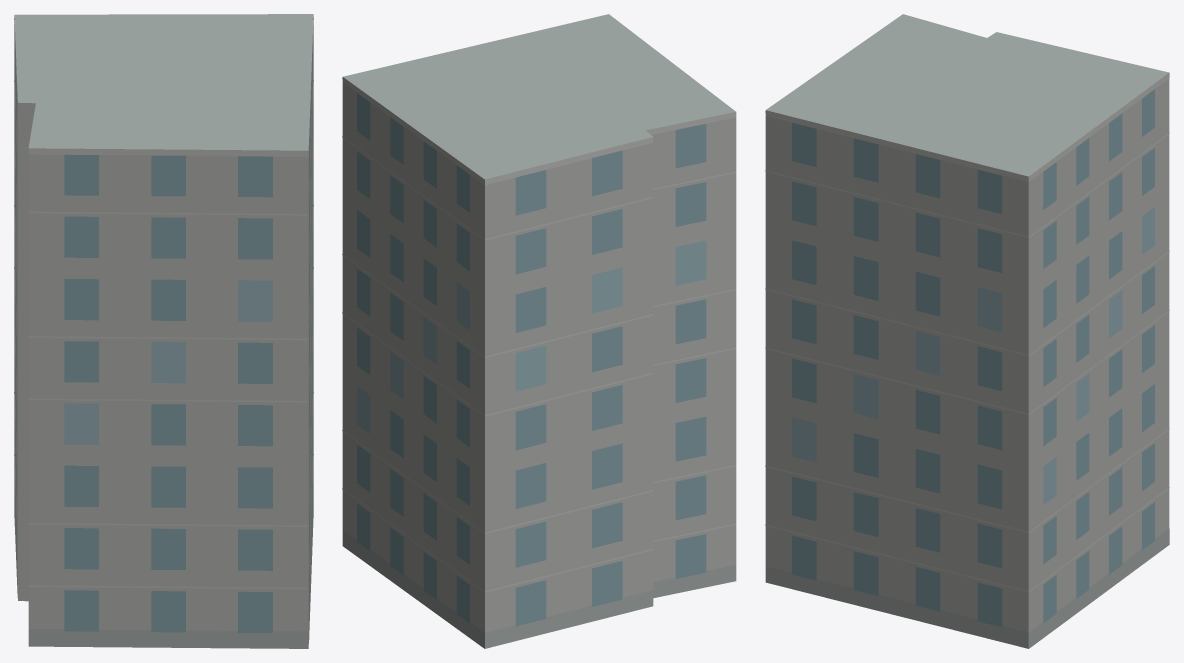
File: survey-upis-32912699.glb
3 renders of one model, left to right at view 1: azimuth 30°, elevation 25°; view 2: azimuth 150°, elevation 25°; view 3: azimuth 270°, elevation 25°, orthographic. The views are drawn at different scales.
Parts seen in each view (by area): view 1: survey-upis-32912699.tmp; view 2: survey-upis-32912699.tmp; view 3: survey-upis-32912699.tmp.
Boxes of the visible parts, box(x1,y1,x2,y2) form: survey-upis-32912699.tmp: box(14, 14, 313, 648); survey-upis-32912699.tmp: box(342, 14, 736, 648); survey-upis-32912699.tmp: box(765, 14, 1169, 648).
Size of the model in its own units: 14.64 by 19.8 by 15.36.
